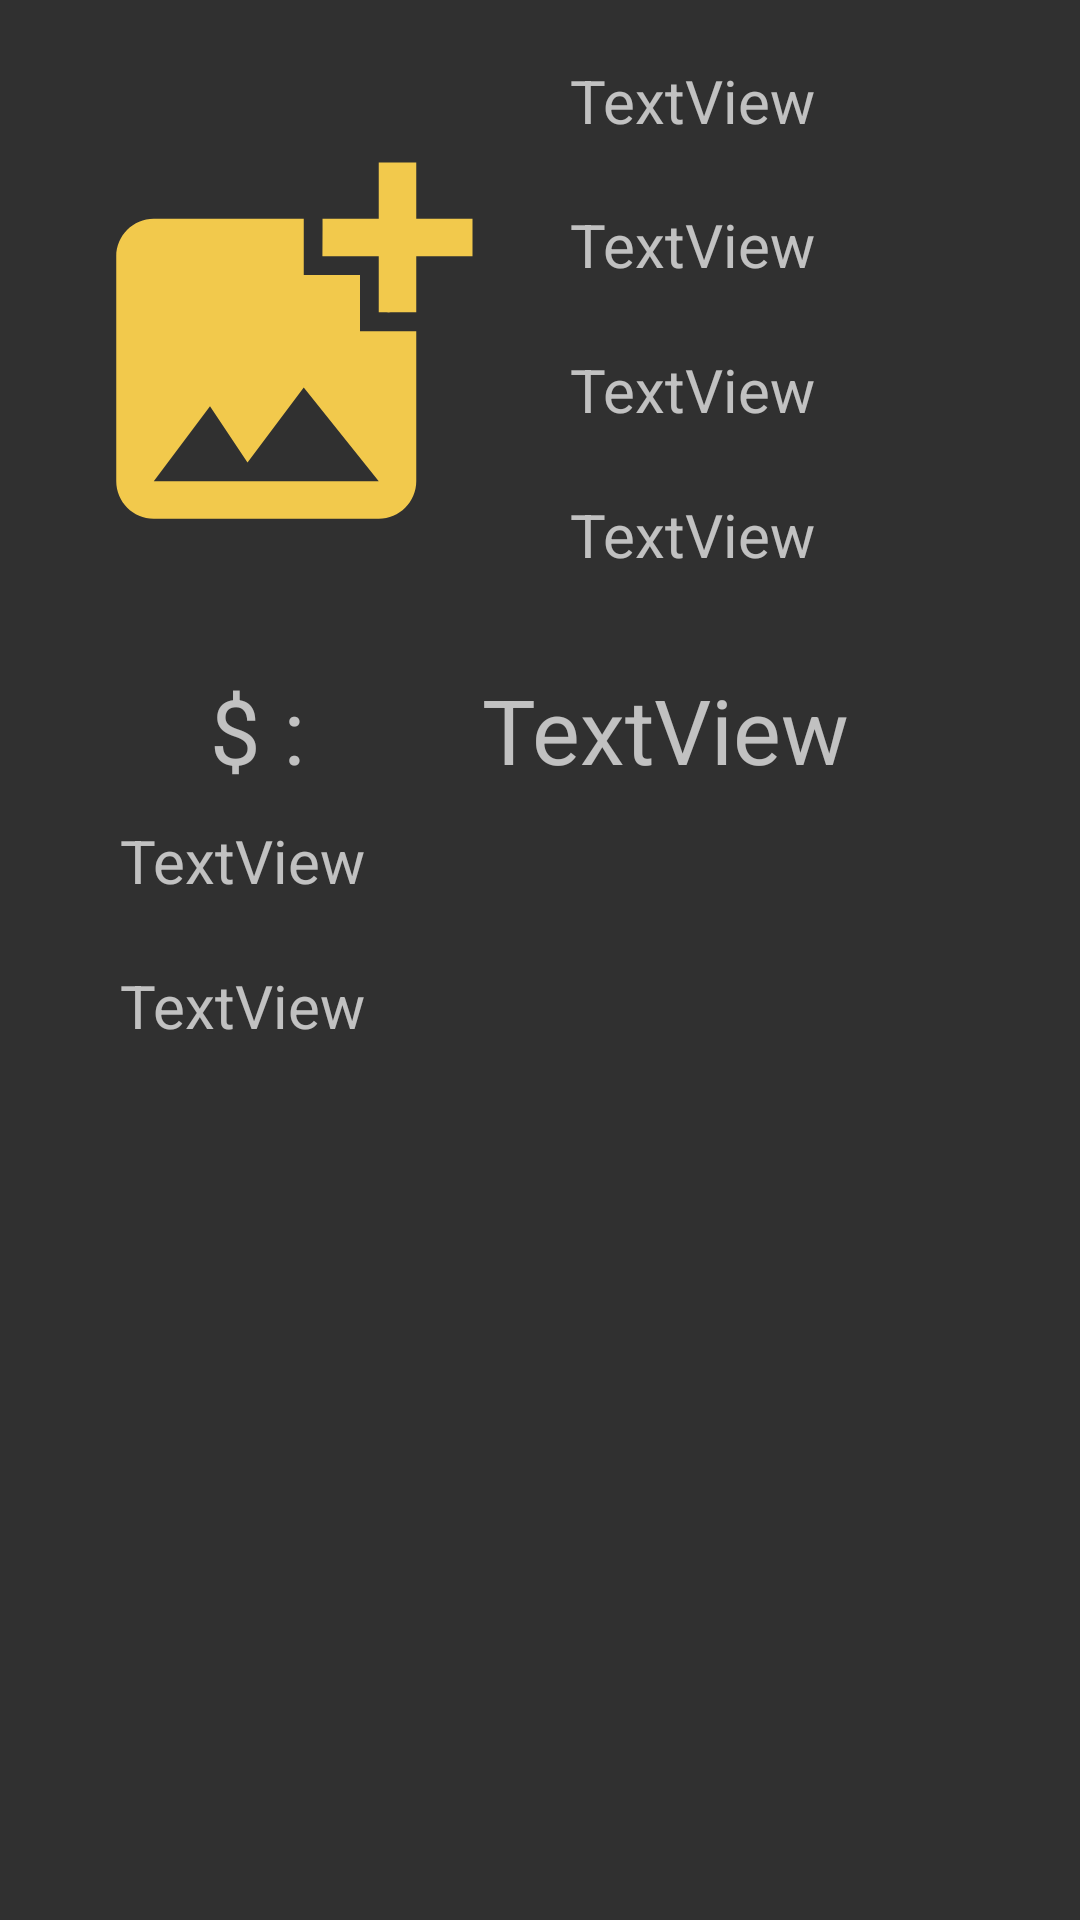

Icons on this 1080px×1920px Android screen, each with the point to tap as (x=x, y=y):
add photo alternate: (x=294, y=340)
